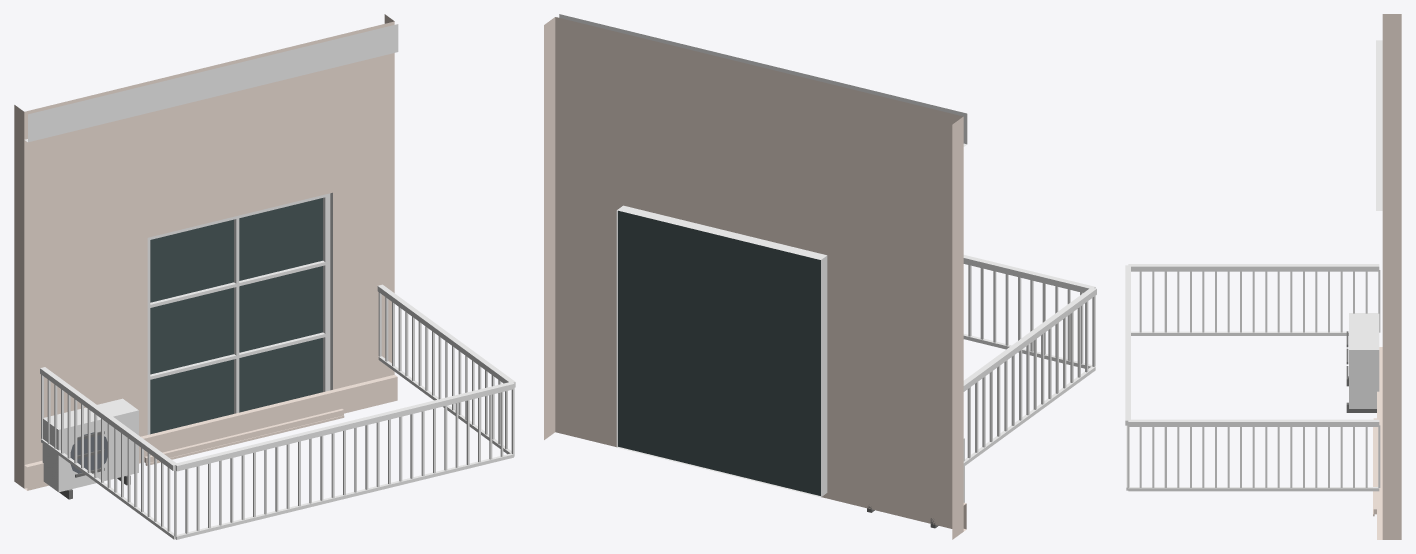
The model's file is top-stair3_close.fbx.
3 views of the same model, side by side, from view 1: azimuth 30°, elevation 25°; view 2: azimuth 150°, elevation 25°; view 3: azimuth 270°, elevation 25° (orthographic). The views are drawn at different scales.
Visible parts, largest first — view 1: a2000s3/400/top-stair_close; view 2: a2000s3/400/top-stair_close; view 3: a2000s3/400/top-stair_close.
Boxes of the visible parts, x1,y1,x2,y2 form: a2000s3/400/top-stair_close: (14,14,515,539); a2000s3/400/top-stair_close: (544,14,1096,539); a2000s3/400/top-stair_close: (1125,14,1401,539).
Bounding box in the file's own units: 3.6 × 3.53 × 2.46.
